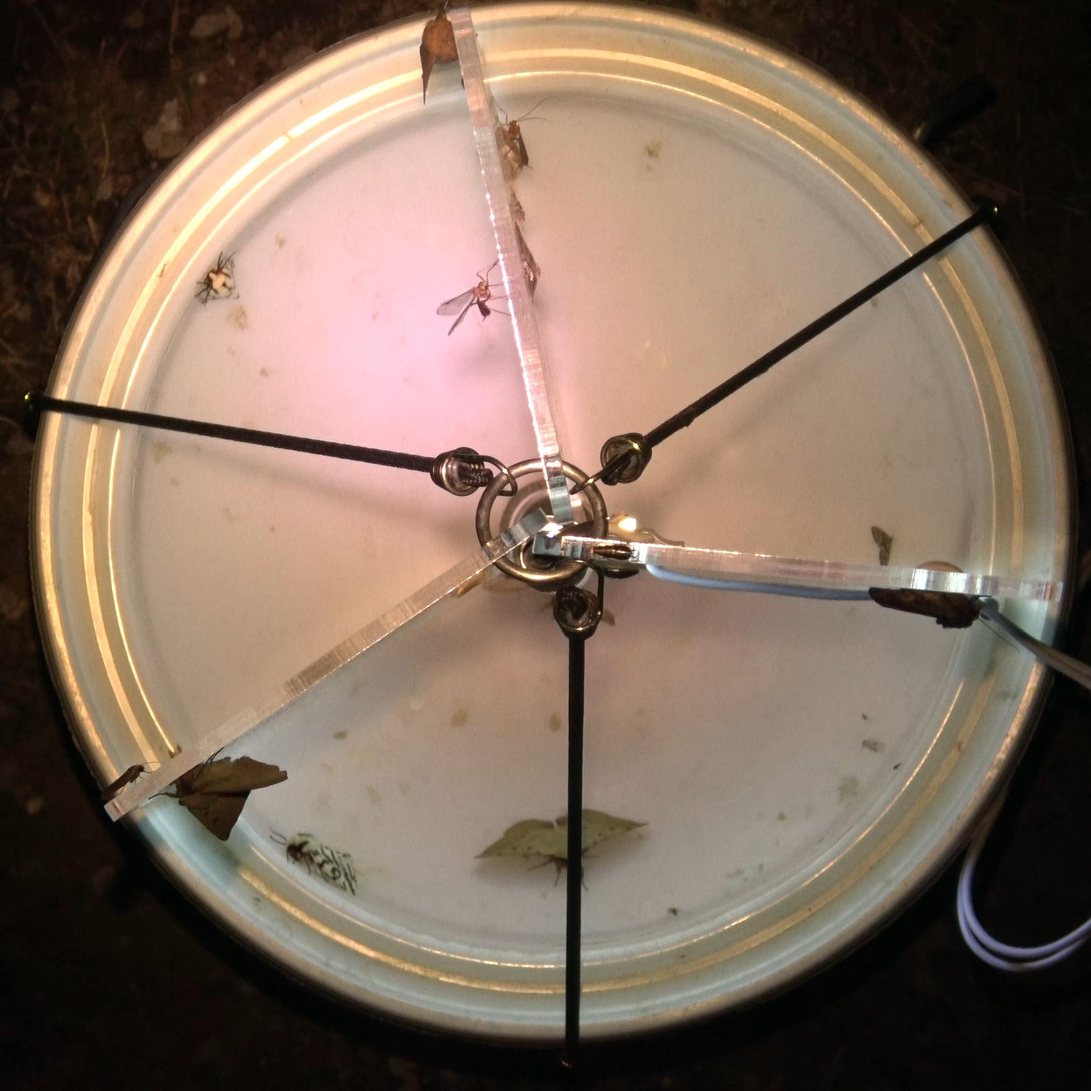bogong: (868, 586, 1020, 652)
coleoptera: (590, 541, 640, 562)
hymenoptera: (437, 257, 512, 336), (493, 95, 556, 180)
moth_na: (473, 809, 648, 892), (148, 746, 290, 846), (270, 826, 363, 897), (419, 1, 465, 107), (484, 563, 555, 614), (194, 250, 239, 307), (100, 761, 161, 803), (514, 221, 542, 305), (494, 125, 524, 184), (870, 524, 895, 566)
objects: (454, 568, 487, 599), (509, 186, 528, 223), (595, 607, 617, 628), (167, 743, 182, 758), (156, 261, 168, 278), (667, 906, 680, 920), (459, 75, 466, 90), (893, 761, 901, 770), (861, 713, 868, 720)
